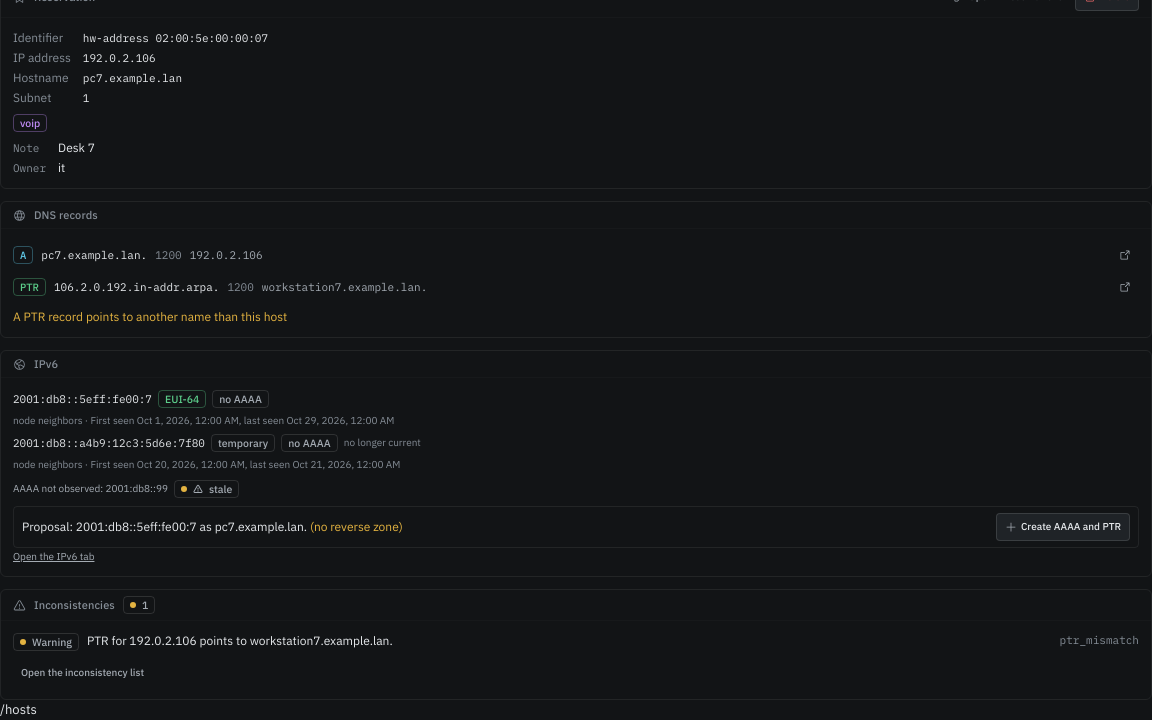
Scenario: HostCard IPv6 part › creates the AAAA and PTR of the proposal, or the reverse zone it lacks first
Click the button with test id "host-ipv6-create". click: (1063, 527)
box: [996, 513, 1130, 541]
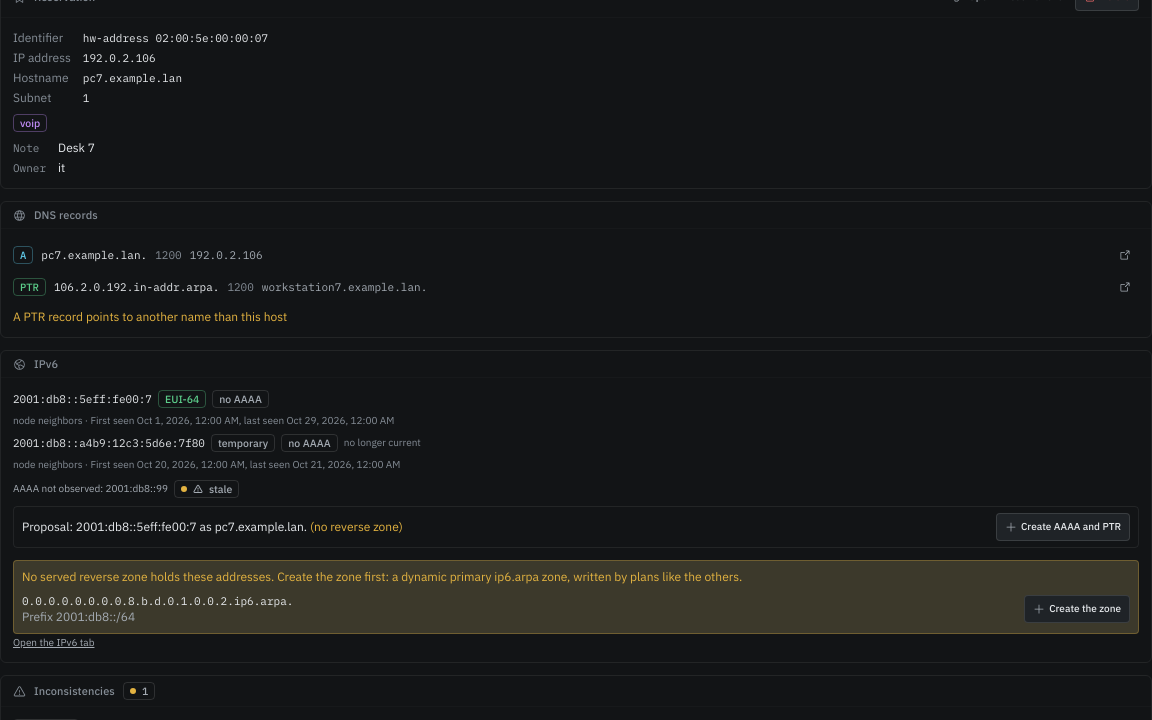
Click the button with test id "ipv6-reverse-create". click: (1077, 609)
box: [1024, 595, 1130, 623]
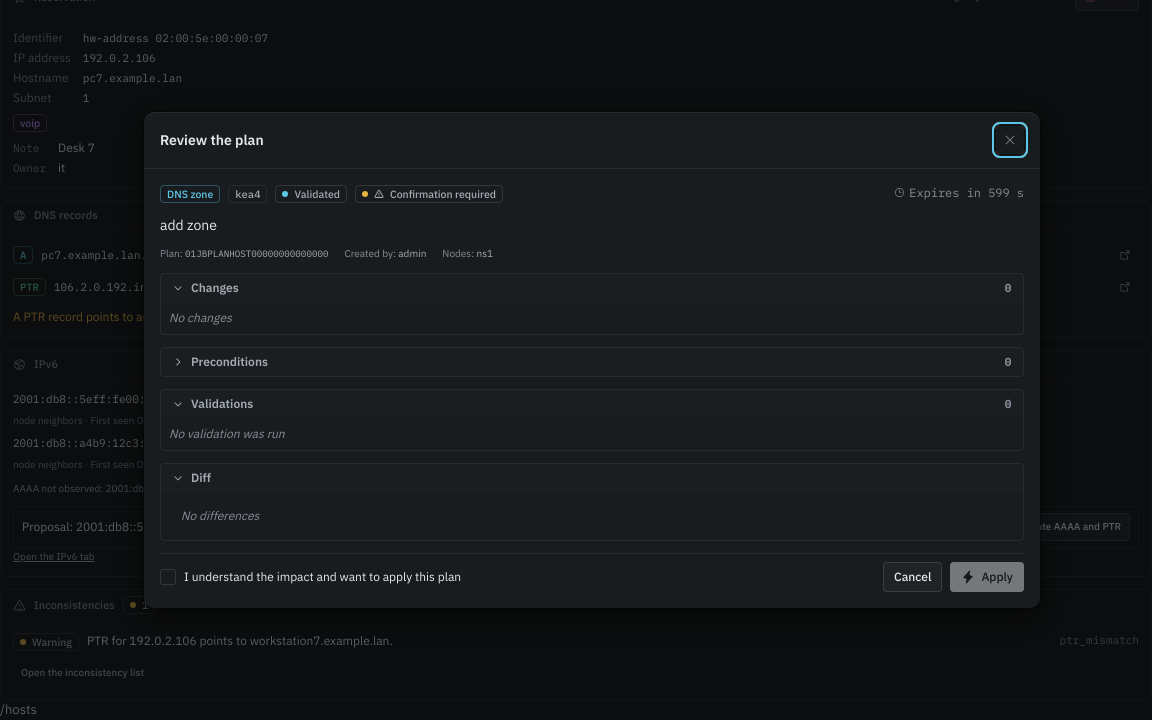
expect the text with test id "plan-summary" reads "add zone": met, box [160, 216, 217, 234]
